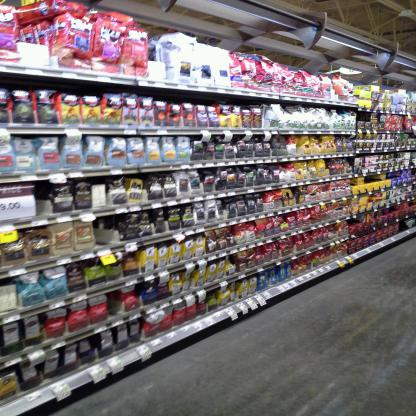Void: (93, 217, 116, 245), (36, 186, 53, 216), (108, 292, 120, 314)
